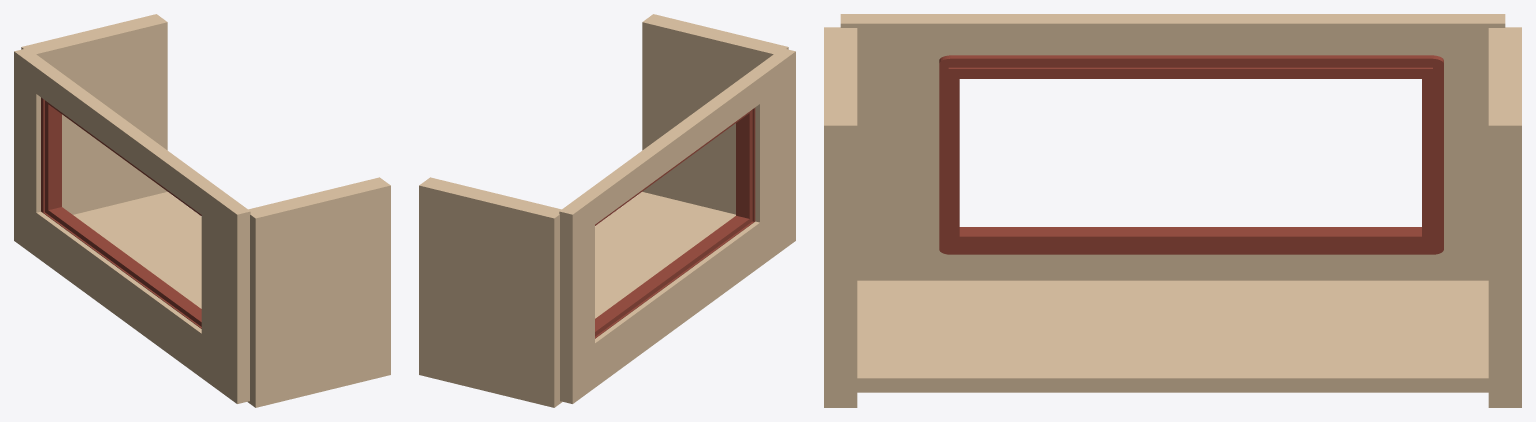
The model's file is black cat 3d model.fbx.
3 views of the same model, side by side, from view 1: azimuth 30°, elevation 25°; view 2: azimuth 150°, elevation 25°; view 3: azimuth 270°, elevation 25° (orthographic). The views are drawn at different scales.
Visible parts, largest first — view 1: Cube.003, Cube.002, Cube.001, Cube, Cube.005, Cube.004; view 2: Cube.003, Cube.001, Cube.002, Cube, Cube.005, Cube.004; view 3: Cube, Cube.003, Cube.005, Cube.004, Cube.001, Cube.002.
Part boxes in pixels (left/top/right/bottom): Cube.003: left=14, top=48, right=250, bottom=403; Cube.002: left=247, top=177, right=390, bottom=407; Cube.001: left=21, top=14, right=167, bottom=214; Cube: left=73, top=192, right=201, bottom=308; Cube.005: left=45, top=100, right=201, bottom=326; Cube.004: left=41, top=97, right=201, bottom=328; Cube.003: left=559, top=48, right=795, bottom=403; Cube.001: left=419, top=177, right=562, bottom=407; Cube.002: left=642, top=14, right=788, bottom=214; Cube: left=595, top=192, right=735, bottom=318; Cube.005: left=595, top=109, right=752, bottom=336; Cube.004: left=595, top=107, right=755, bottom=338; Cube: left=840, top=280, right=1505, bottom=392; Cube.003: left=840, top=14, right=1505, bottom=280; Cube.005: left=948, top=67, right=1432, bottom=247; Cube.004: left=939, top=55, right=1443, bottom=254; Cube.001: left=1488, top=27, right=1521, bottom=407; Cube.002: left=824, top=27, right=857, bottom=407.
Bounding box in the file's own units: 438 × 543 × 1200.
